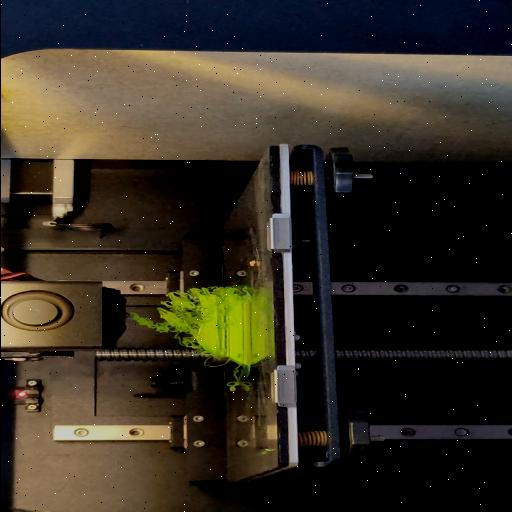spaghetti: (126, 288, 199, 350), (228, 360, 242, 392), (199, 356, 231, 368), (240, 284, 250, 295)
